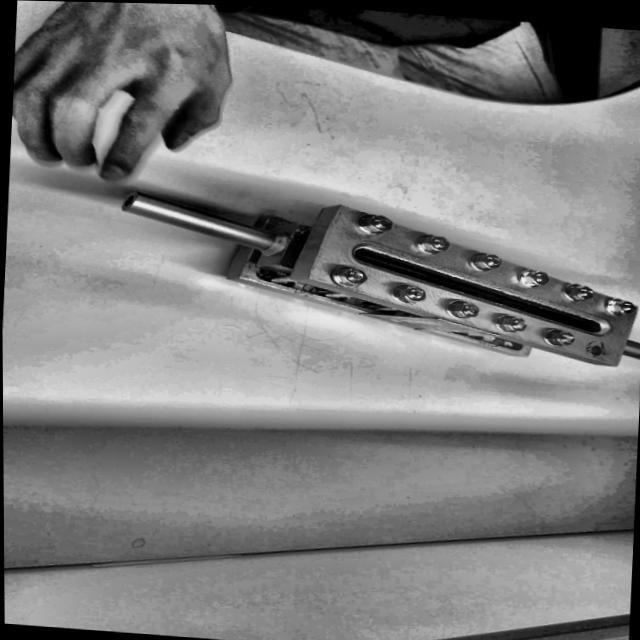ShuiWeiQi_11: (105, 162, 639, 387)
